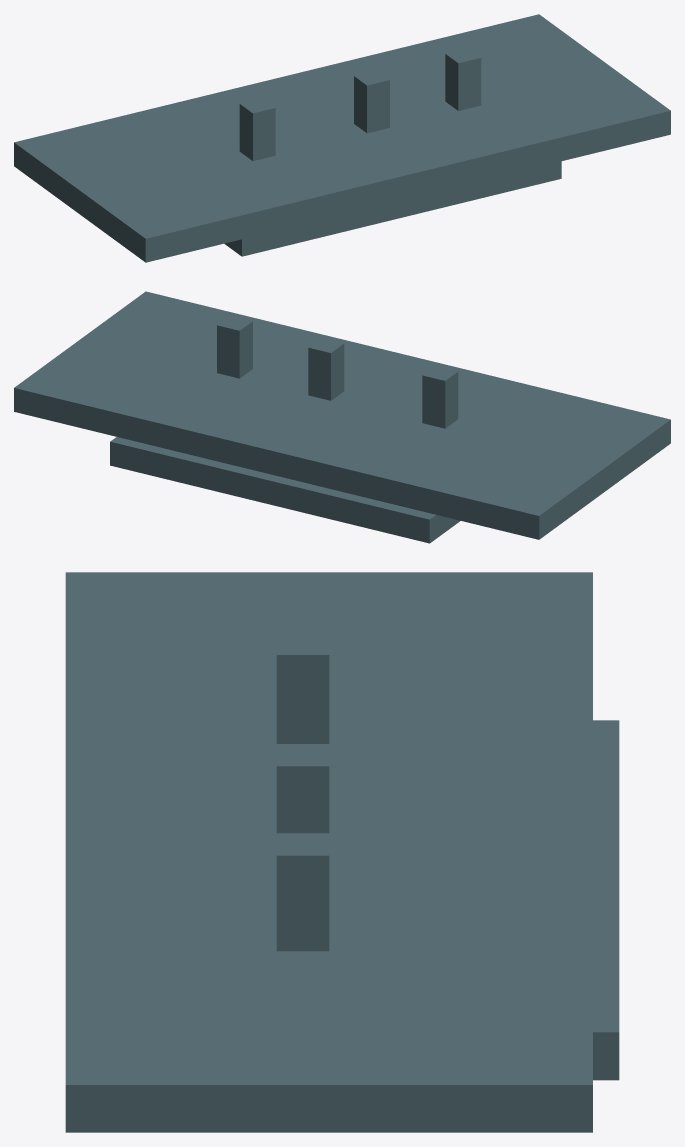
File: assembly.glb
The picture shows the model from 3 angles, top to bottom: view 1: azimuth 30°, elevation 25°; view 2: azimuth 150°, elevation 25°; view 3: azimuth 270°, elevation 25°; orthographic projection. The views are drawn at different scales.
Parts seen in each view (by area): view 1: fe92a6cc-8ef9-4053-9456-5ab9adf44c41:chunk:0,0,0 (×3), ff15ef85-3211-4126-956c-f5a7c3b6189e:chunk:-1,-1,0, ff15ef85-3211-4126-956c-f5a7c3b6189e:chunk:0,-1,0; view 2: fe92a6cc-8ef9-4053-9456-5ab9adf44c41:chunk:0,0,0 (×3), ff15ef85-3211-4126-956c-f5a7c3b6189e:chunk:-1,0,0, ff15ef85-3211-4126-956c-f5a7c3b6189e:chunk:0,0,0; view 3: fe92a6cc-8ef9-4053-9456-5ab9adf44c41:chunk:0,0,0 (×3), ff15ef85-3211-4126-956c-f5a7c3b6189e:chunk:0,0,0, ff15ef85-3211-4126-956c-f5a7c3b6189e:chunk:-1,0,0.
Part boxes in pixels (box(x1,y1,x2,y2)): fe92a6cc-8ef9-4053-9456-5ab9adf44c41:chunk:0,0,0 (×3): box(14, 14, 670, 262); ff15ef85-3211-4126-956c-f5a7c3b6189e:chunk:-1,-1,0: box(224, 200, 401, 256); ff15ef85-3211-4126-956c-f5a7c3b6189e:chunk:0,-1,0: box(401, 161, 561, 217); fe92a6cc-8ef9-4053-9456-5ab9adf44c41:chunk:0,0,0 (×3): box(14, 291, 670, 539); ff15ef85-3211-4126-956c-f5a7c3b6189e:chunk:-1,0,0: box(270, 476, 460, 543); ff15ef85-3211-4126-956c-f5a7c3b6189e:chunk:0,0,0: box(110, 437, 275, 504); fe92a6cc-8ef9-4053-9456-5ab9adf44c41:chunk:0,0,0 (×3): box(65, 572, 592, 1132); ff15ef85-3211-4126-956c-f5a7c3b6189e:chunk:0,0,0: box(593, 876, 619, 1080); ff15ef85-3211-4126-956c-f5a7c3b6189e:chunk:-1,0,0: box(593, 720, 619, 876).
Bounding box in the file's own units: 5.75 × 1 × 2.62.
